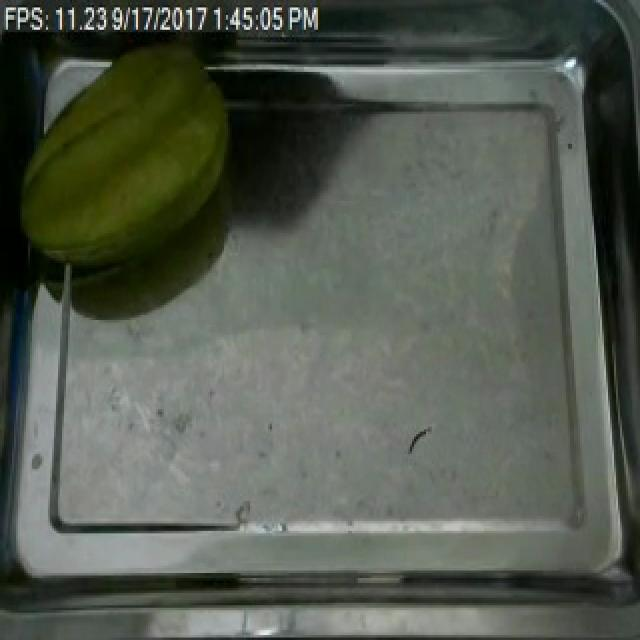fruit: (4, 27, 244, 283)
